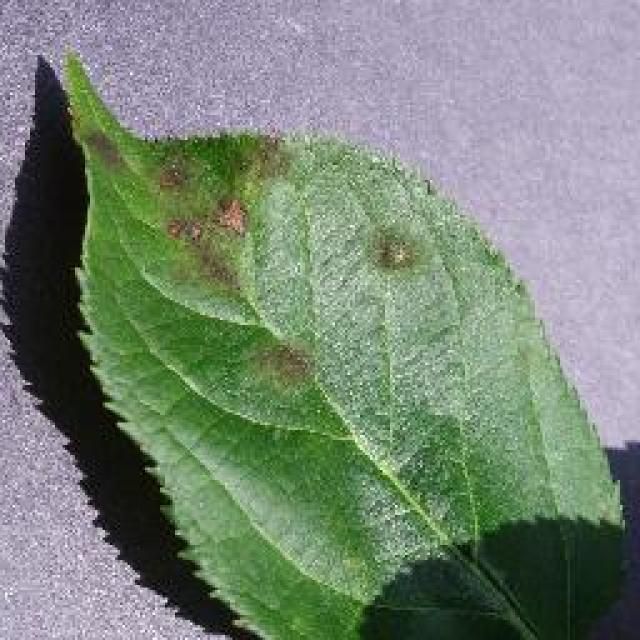apple scab disease: (48, 45, 630, 637)
